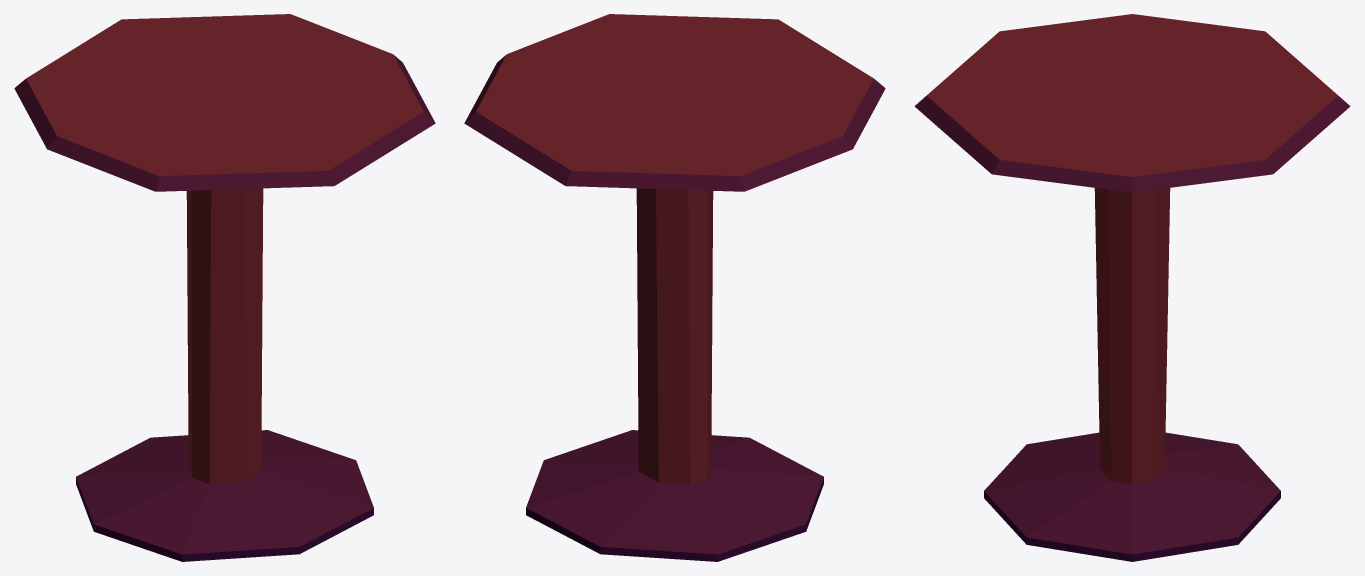
The model's file is Mesinha1.fbx.
The picture shows the model from 3 angles, left to right: view 1: azimuth 30°, elevation 25°; view 2: azimuth 150°, elevation 25°; view 3: azimuth 270°, elevation 25°; orthographic projection.
Parts seen in each view (by area): view 1: Mesinha; view 2: Mesinha; view 3: Mesinha.
Boxes of the visible parts, bbox=[...] form: Mesinha: bbox=[14, 14, 435, 561]; Mesinha: bbox=[464, 14, 885, 561]; Mesinha: bbox=[914, 14, 1350, 561].
Size of the model in its own units: 0.6081 by 0.6607 by 0.6487.
